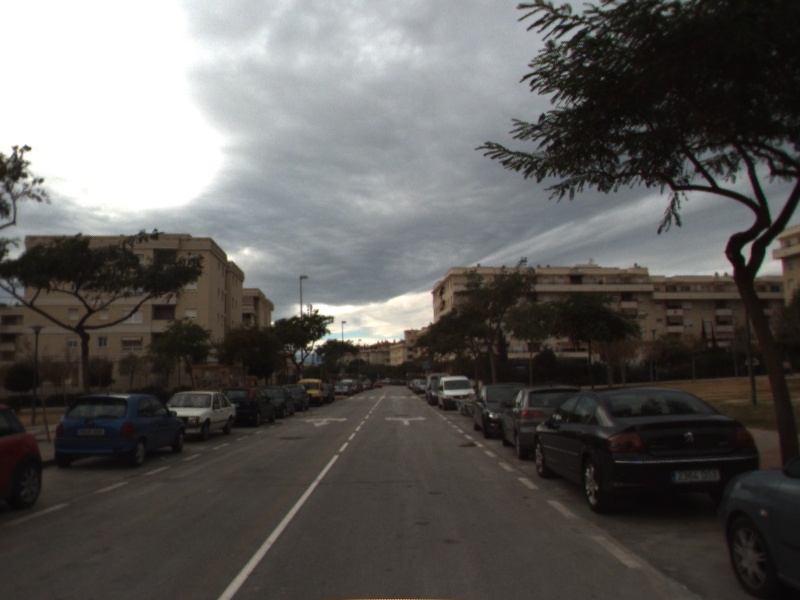LEFT_RIGHT: (382, 413, 429, 427)
